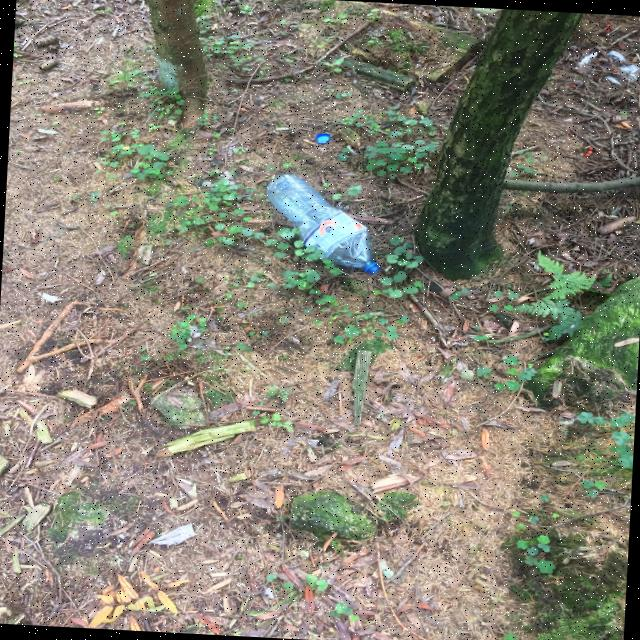Clear plastic bottle: (267, 174, 381, 275)
Plastic bottle cap: (317, 135, 330, 142)
